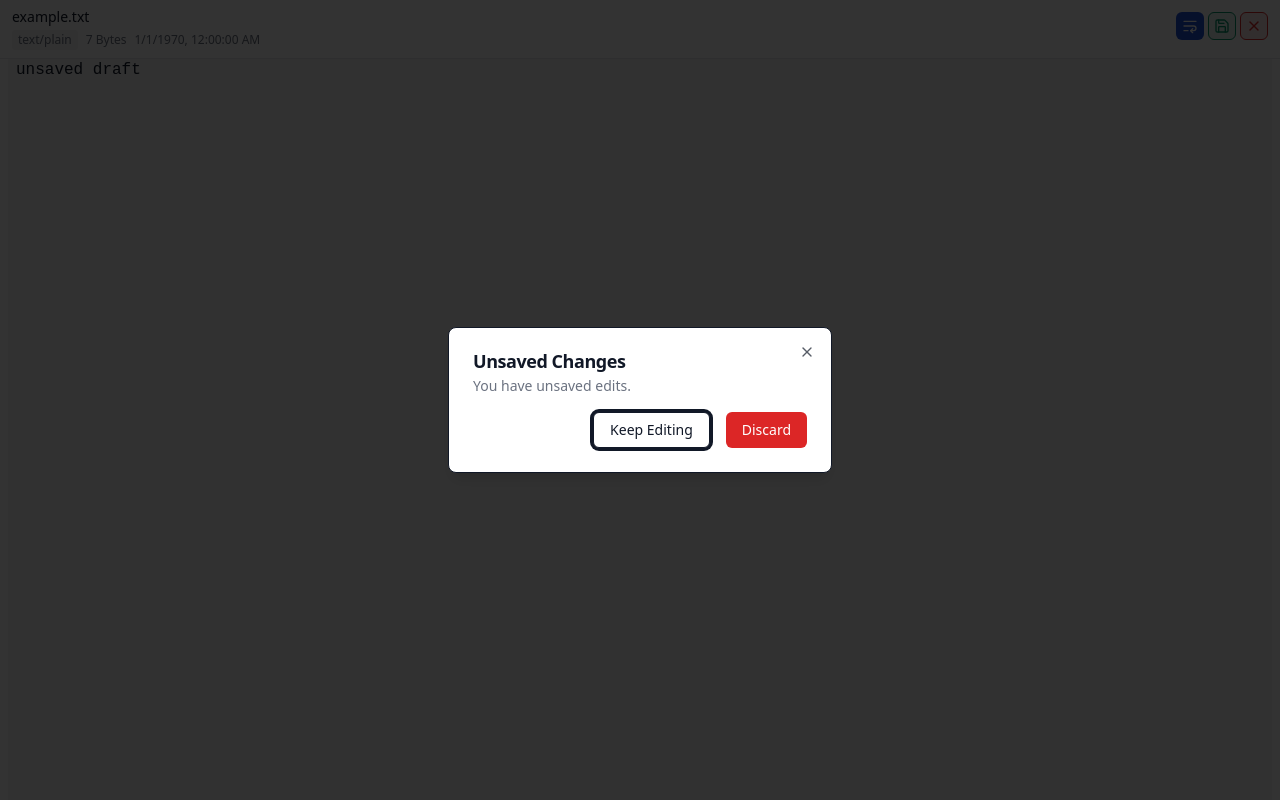
Test: file editing navigation protection › blocks browser Back until the user explicitly discards editing content
Earlier steps of the test are not shown.
(page scrolled)
Expected: the dialog "Unsaved Changes" is shown, [448, 327, 832, 473]
Click the button "Discard": coordinates (766, 430) [726, 412, 807, 448]
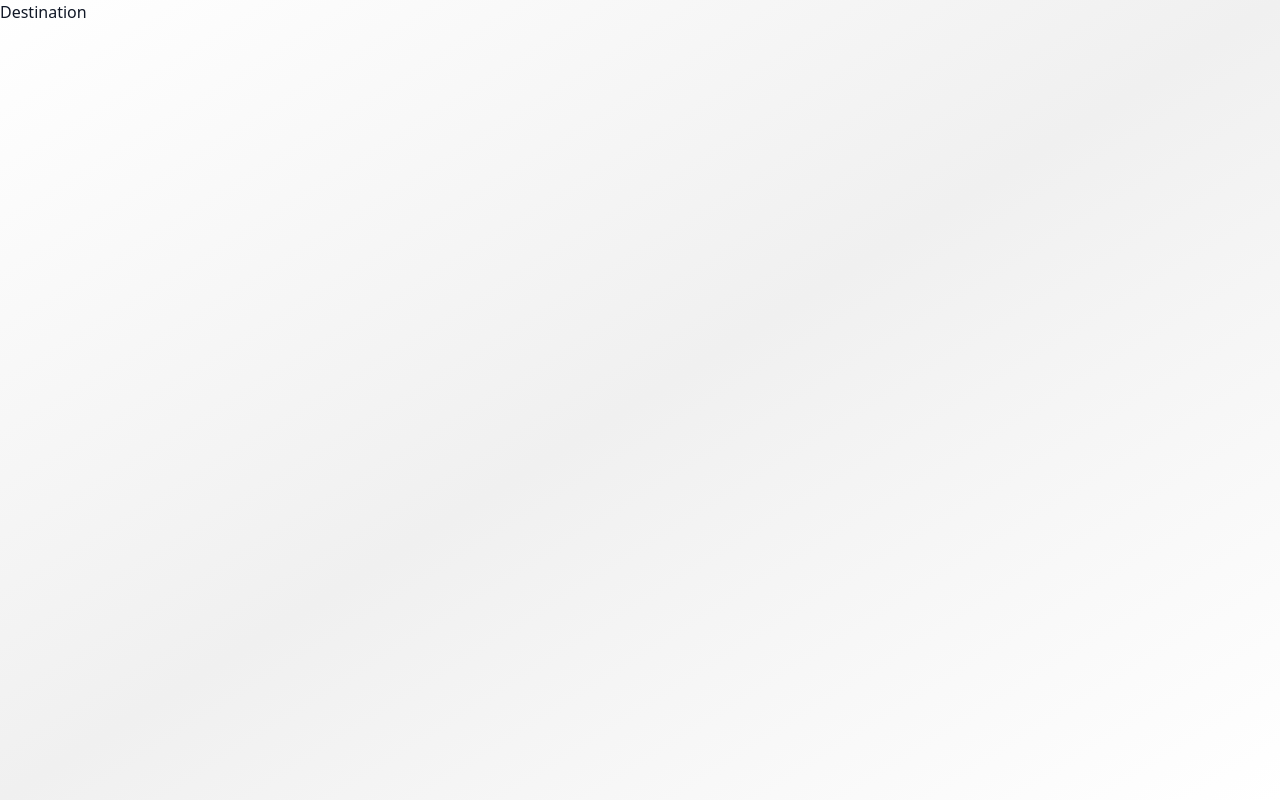
Expected: the heading "Destination" is shown, [0, 1, 87, 23]
